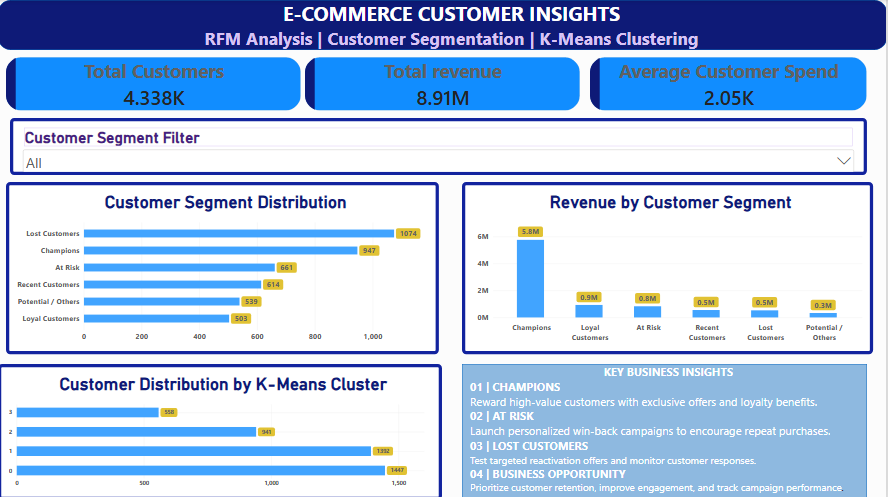

This screenshot's page, from the dashboard's own definition file:
{"tool":"powerbi","page":{"name":"Page 1","canvas":[1920,1080],"ordinal":0},"visuals":[{"type":"shape","box":[1002.2,786.2,874.8,293.8],"z":0},{"type":"cardVisual","fields":{"Data":["CountNonNull(RFM_Customer_Scores.CustomerID)"]},"box":[17.3,123.1,637.2,116.6],"z":1000},{"type":"cardVisual","fields":{"Data":["Sum(RFM_Customer_Scores.Monetary)"]},"box":[663.1,123.1,594,116.6],"z":2000},{"type":"cardVisual","fields":{"Data":["Avg(RFM_Customer_Scores.Monetary)"]},"box":[1278.7,123.1,598.3,116.6],"z":3000},{"type":"clusteredBarChart","title":"Customer Segment Distribution","fields":{"Category":["RFM_Customer_Scores.Segment"],"Y":["CountNonNull(RFM_Customer_Scores.CustomerID)"]},"box":[17.3,393.1,935.3,371.5],"z":4000},{"type":"slicer","fields":{"Values":["RFM_Customer_Scores.Segment"]},"box":[25.9,254.9,1851.1,123.1],"z":5000},{"type":"clusteredColumnChart","title":"Revenue by Customer Segment","fields":{"Category":["RFM_Customer_Scores.Segment"],"Y":["Sum(RFM_Customer_Scores.Monetary)"]},"box":[1002.2,393.1,887.8,371.5],"z":6000},{"type":"clusteredBarChart","title":"Customer Distribution by K-Means Cluster","fields":{"Category":["RFM_Customer_Scores.Cluster"],"Y":["Count(RFM_Customer_Scores.CustomerID)"]},"box":[0,786.2,959,293.8],"z":7000},{"type":"shape","box":[0,0,1920.2,108],"z":8000},{"type":"textbox","box":[1203,813,440,267],"z":9000},{"type":"textbox","box":[38.9,0,1881.4,108],"z":10000},{"type":"textbox","box":[1019.5,786.2,857.5,293.8],"z":11000}]}

Visuals, with their boxes in screenshot pixels (x1, y1, x2, y2), scaled from the page's 1920x1080 canvas onto the 888x497 screenshot:
shape: 464/362/868/496
cardVisual - CountNonNull(RFM_Customer_Scores.CustomerID): 8/57/303/110
cardVisual - Sum(RFM_Customer_Scores.Monetary): 307/57/581/110
cardVisual - Avg(RFM_Customer_Scores.Monetary): 591/57/868/110
"Customer Segment Distribution" clusteredBarChart: 8/181/441/352
slicer - RFM_Customer_Scores.Segment: 12/117/868/174
"Revenue by Customer Segment" clusteredColumnChart: 464/181/874/352
"Customer Distribution by K-Means Cluster" clusteredBarChart: 0/362/444/496
shape: 0/0/887/50
textbox: 556/374/760/496
textbox: 18/0/887/50
textbox: 472/362/868/496
